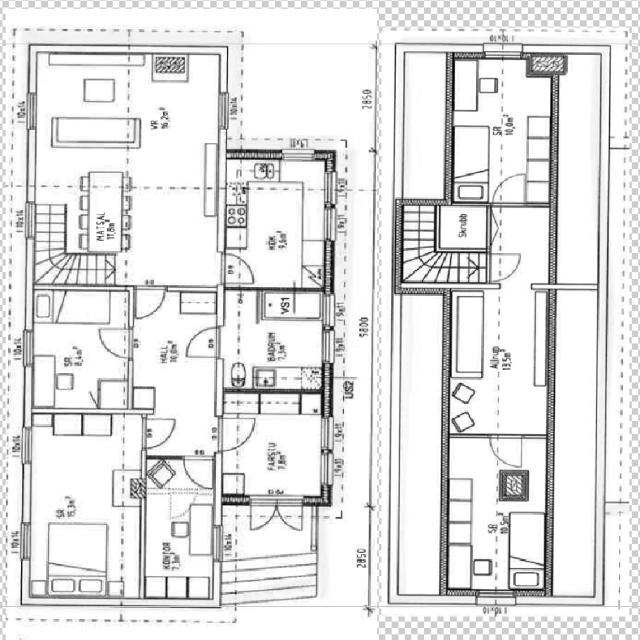door: (252, 497, 308, 534), (216, 413, 260, 452), (182, 322, 224, 362), (218, 248, 258, 288), (140, 413, 180, 453), (487, 432, 526, 470), (491, 170, 530, 208), (95, 325, 135, 361), (182, 452, 216, 492), (132, 284, 167, 321), (486, 250, 524, 282), (248, 498, 280, 533)
window: (318, 194, 339, 245), (212, 90, 232, 135), (318, 290, 338, 331), (481, 44, 526, 62), (22, 89, 40, 134), (474, 588, 516, 606), (318, 327, 336, 368), (18, 520, 34, 564), (317, 446, 333, 489), (18, 425, 34, 466), (209, 522, 225, 563), (317, 415, 333, 453), (21, 328, 36, 368), (278, 150, 318, 164)
zone: (30, 50, 224, 289), (24, 410, 139, 602), (445, 438, 551, 594), (449, 60, 554, 205), (224, 156, 332, 293), (448, 292, 548, 438), (133, 285, 218, 456), (31, 291, 130, 412), (220, 393, 327, 502), (220, 290, 326, 390), (140, 492, 216, 599), (436, 203, 491, 253), (260, 290, 324, 322)
